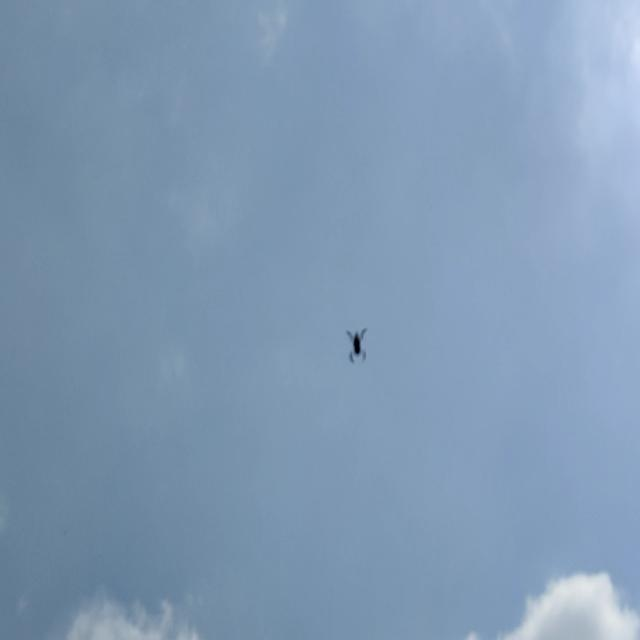drone: (337, 316, 374, 367)
